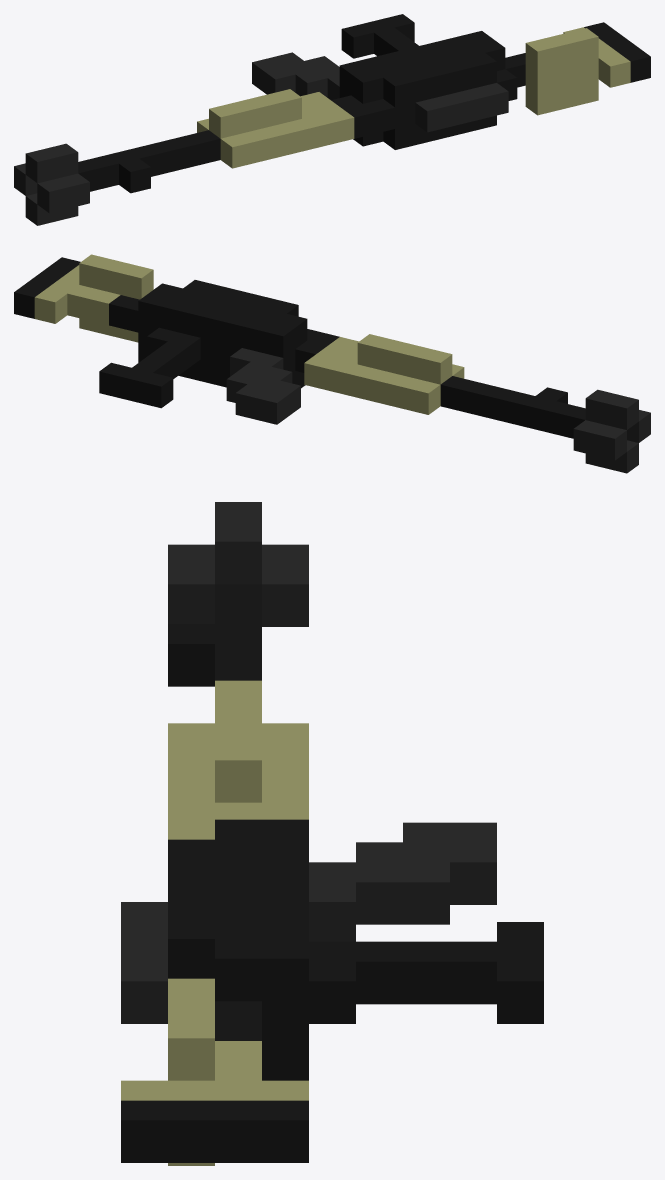
The model's file is soldier-rifle.obj.
3 views of the same model, one above another, from view 1: azimuth 30°, elevation 25°; view 2: azimuth 150°, elevation 25°; view 3: azimuth 270°, elevation 25° (orthographic). The views are drawn at different scales.
Size of the model in its own units: 2.9 by 0.3 by 0.9.
1 material, 1 textured.
